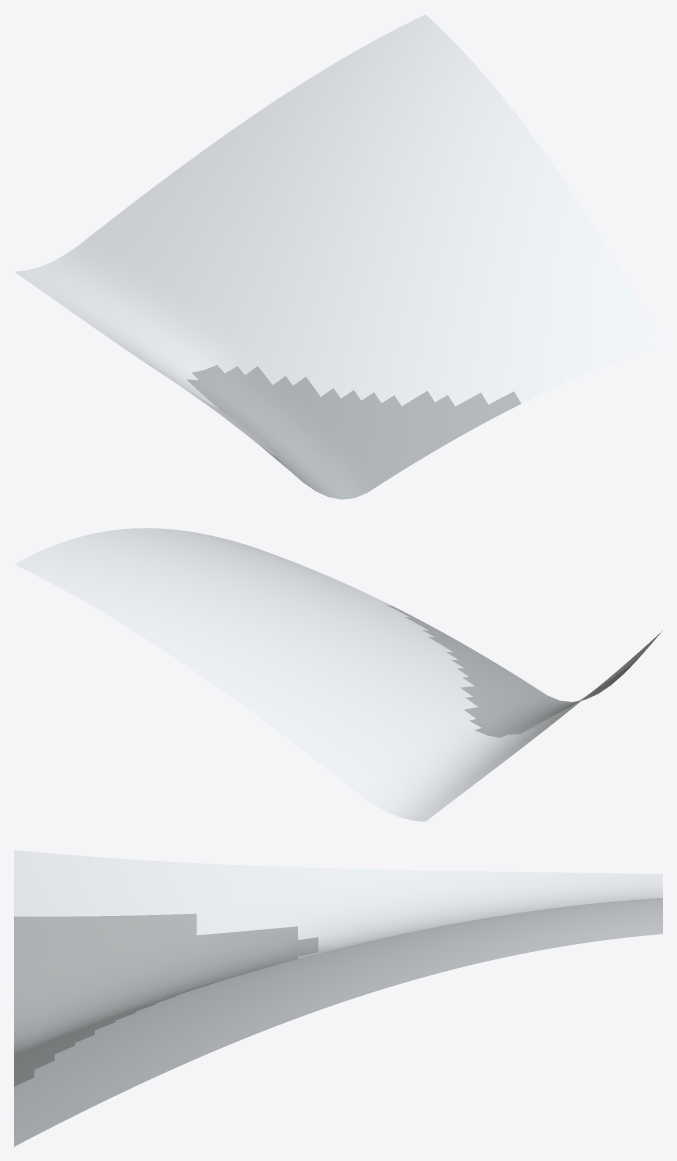
File: alpine-13-10.glb
The picture shows the model from 3 angles, top to bottom: view 1: azimuth 30°, elevation 25°; view 2: azimuth 150°, elevation 25°; view 3: azimuth 270°, elevation 25°; orthographic projection. The views are drawn at different scales.
Visible parts, largest first — view 1: alpine-13-10; view 2: alpine-13-10; view 3: alpine-13-10.
Part boxes in pixels (x1,y1,x2,y2): alpine-13-10: (14, 14, 662, 499); alpine-13-10: (14, 528, 662, 821); alpine-13-10: (14, 850, 662, 1146).
Size of the model in its own units: 256 by 140 by 256.
2 materials, 2 textured.
